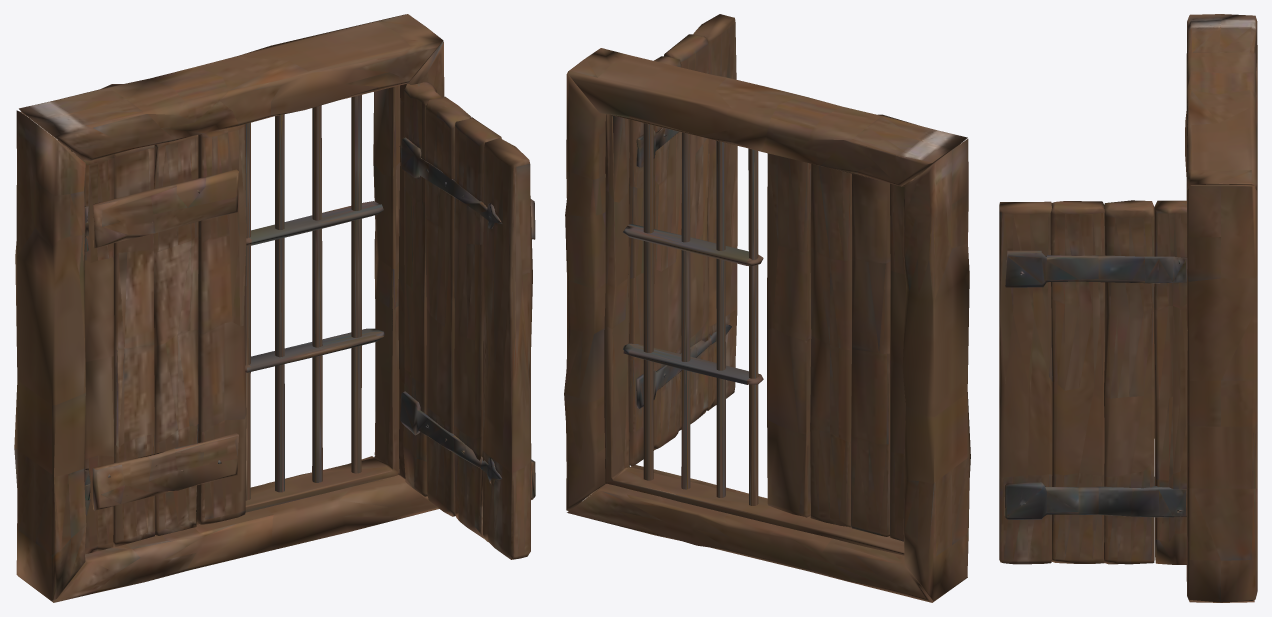
File: k-win-half.glb
3 views of the same model, side by side, from view 1: azimuth 30°, elevation 25°; view 2: azimuth 150°, elevation 25°; view 3: azimuth 270°, elevation 25° (orthographic). The views are drawn at different scales.
Bounding box in the file's own units: 0.831 × 0.9507 × 0.5303.
Materials: 1 (1 with a texture image).
